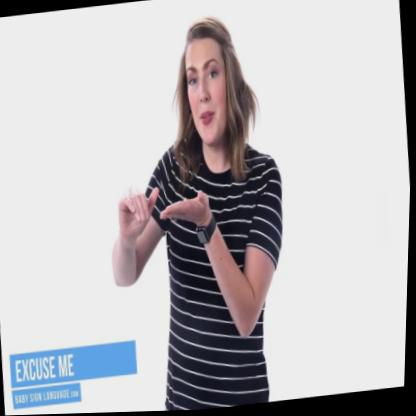ExcuseMe: (112, 161, 218, 257)
